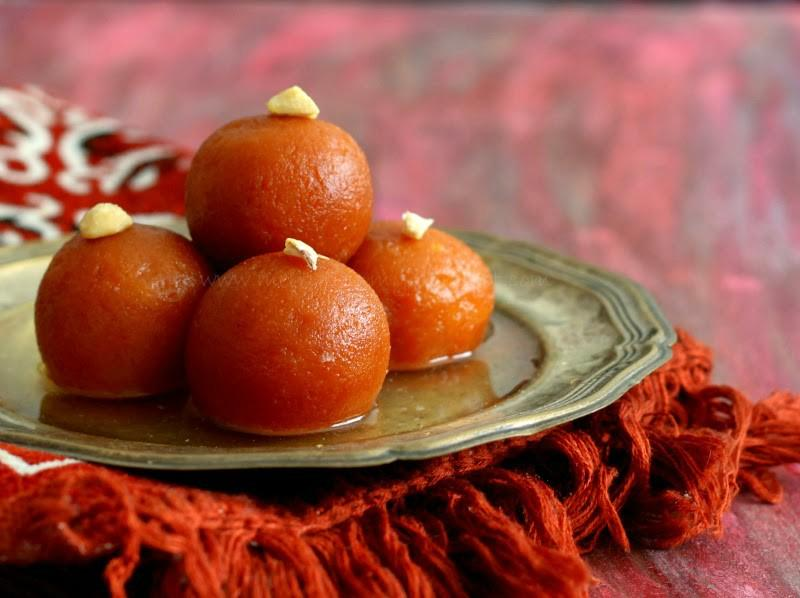GulabJamun: (188, 240, 393, 436), (34, 205, 202, 405), (186, 89, 376, 262), (342, 209, 495, 373)
